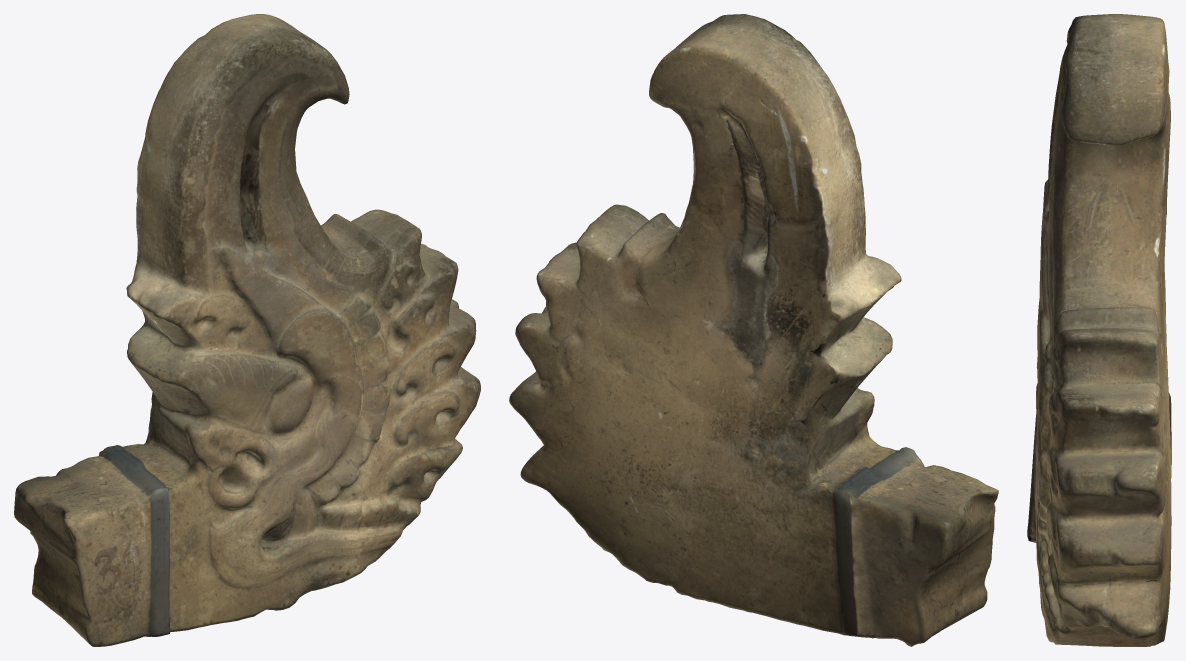
Rendered from 30_vattrangtri_final.glb.
3 views of the same model, side by side, from view 1: azimuth 30°, elevation 25°; view 2: azimuth 150°, elevation 25°; view 3: azimuth 270°, elevation 25° (orthographic). The views are drawn at different scales.
Bounding box in the file's own units: 0.4783 × 0.5794 × 0.1272.
1 material, 1 textured.
